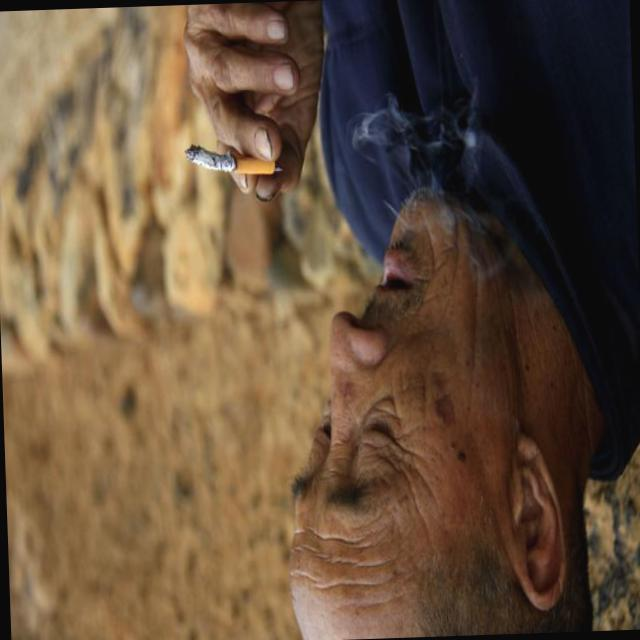smoke: (169, 115, 314, 206)
